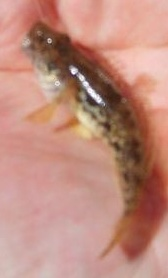Gymnocephalus cernuus: (20, 20, 148, 258)
